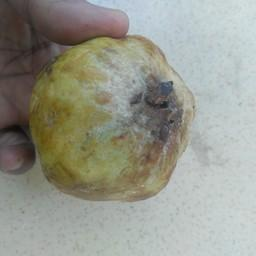Bad_guava: (25, 32, 198, 204)
